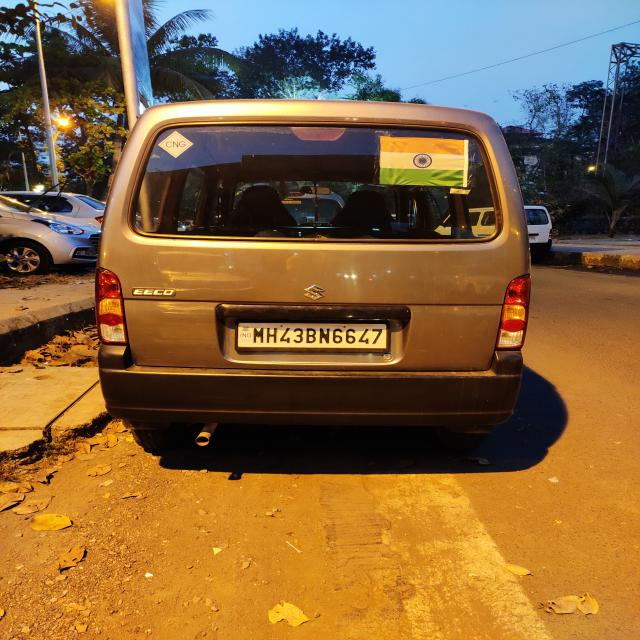Number-Plate: (240, 319, 388, 350)
